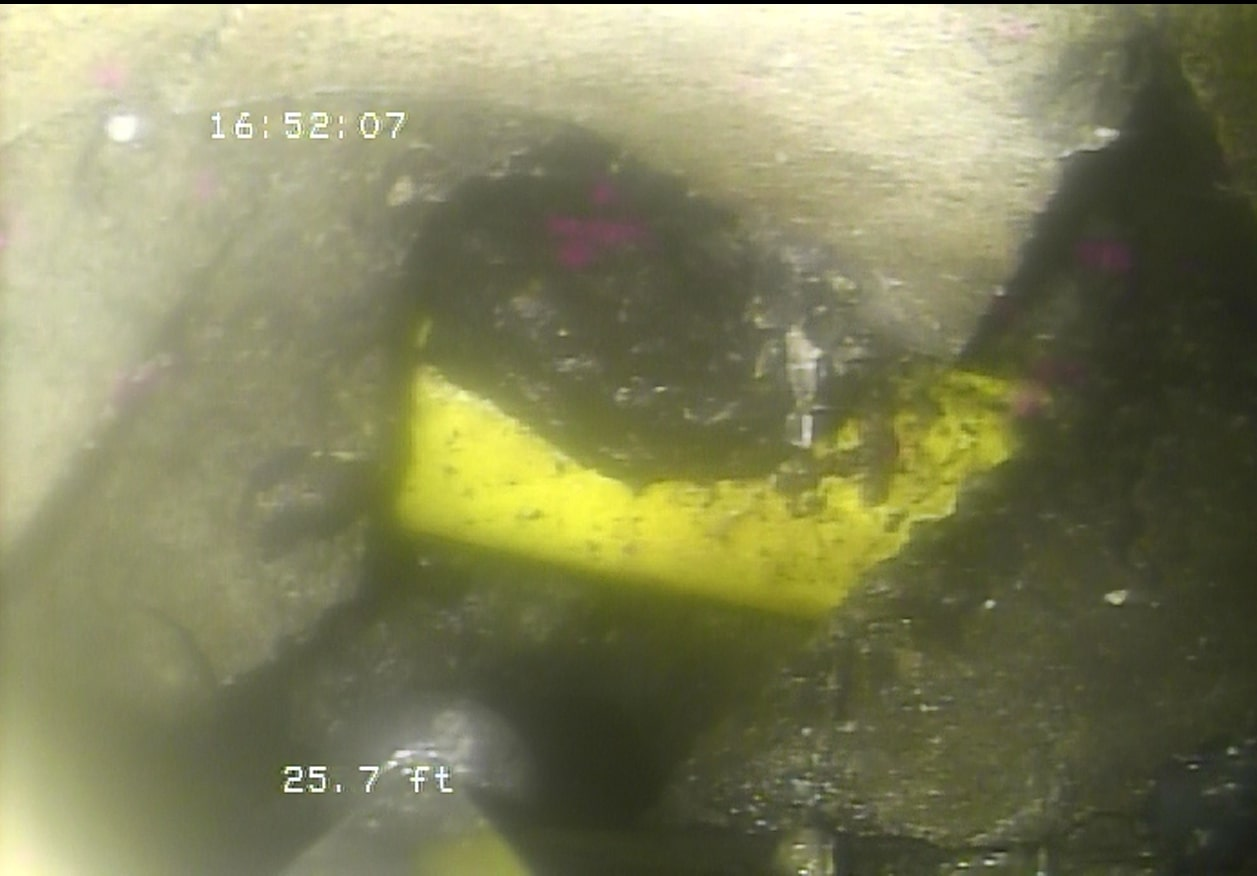cb: (330, 252, 1122, 656)
